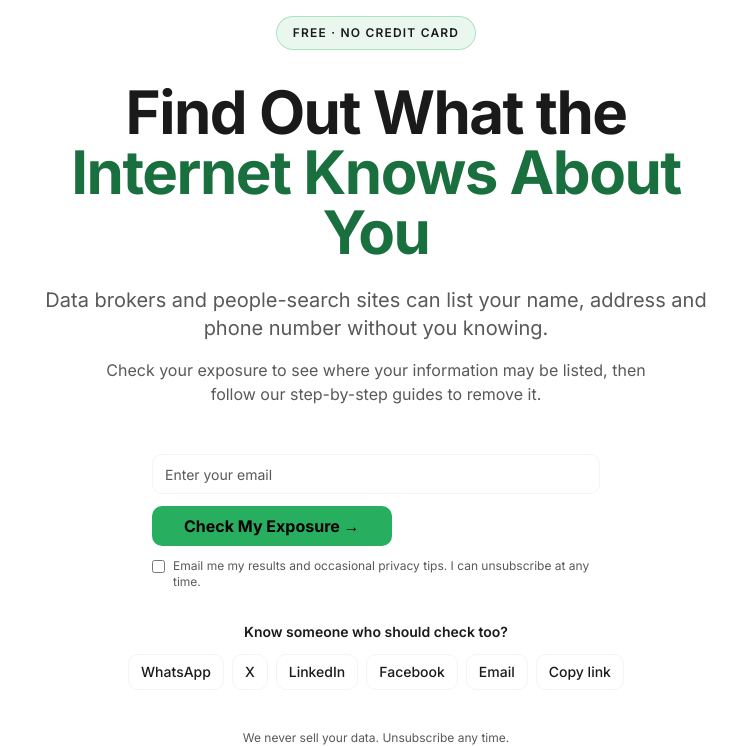
Scenario: Scan page: a failed report request is not hidden (MPC-7535) › a retry after a failure requests the report again, does not resend the lead, then thanks the visitor
The width and height of the screenshot is (753, 746).
In the field named "Email address": (376, 474) [152,454,600,494], type "mpc7535+unit@example.com"
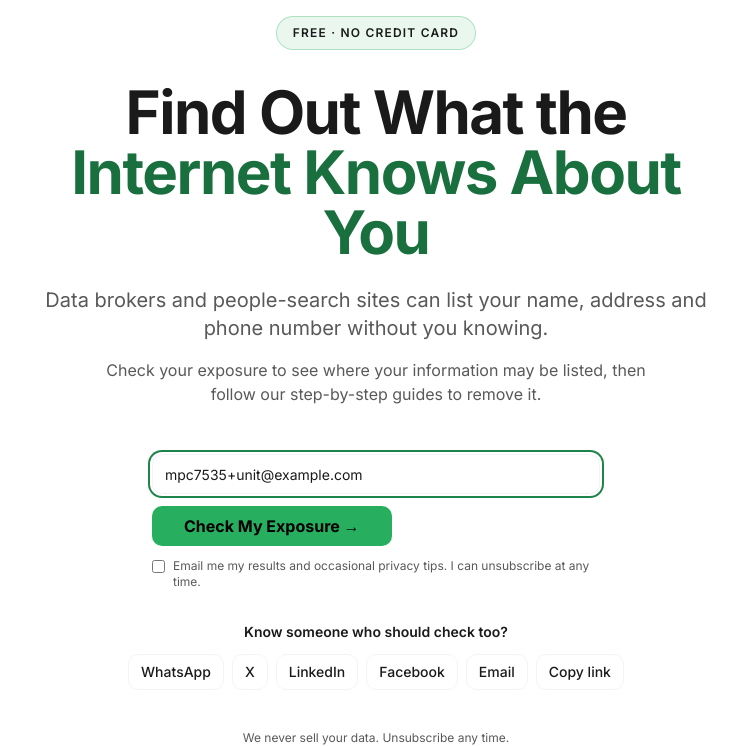
Click the checkbox labelled "Email me my results and occasional privacy tips": (158, 566) [152,560,165,573]
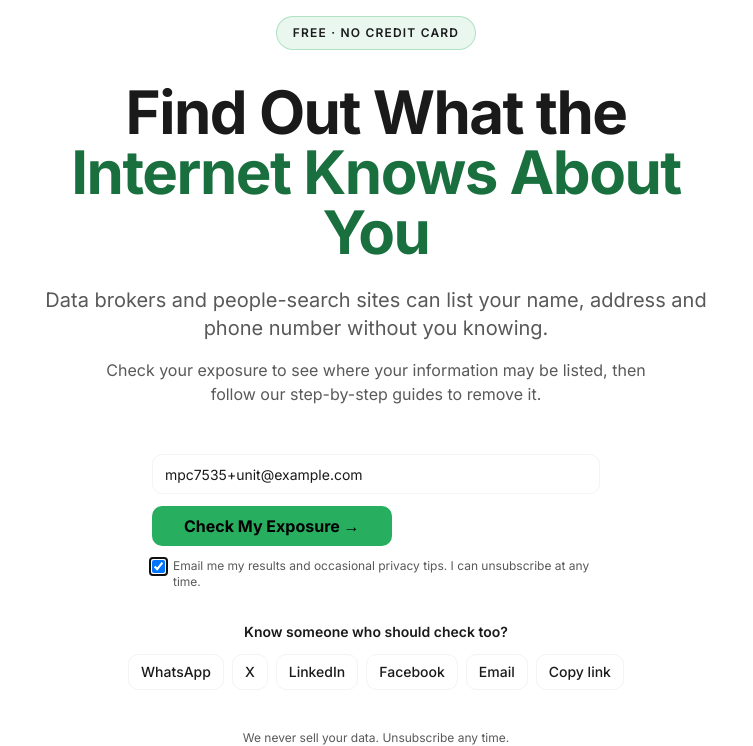
Click the button "Check My Exposure →": (272, 526) [152,506,392,546]
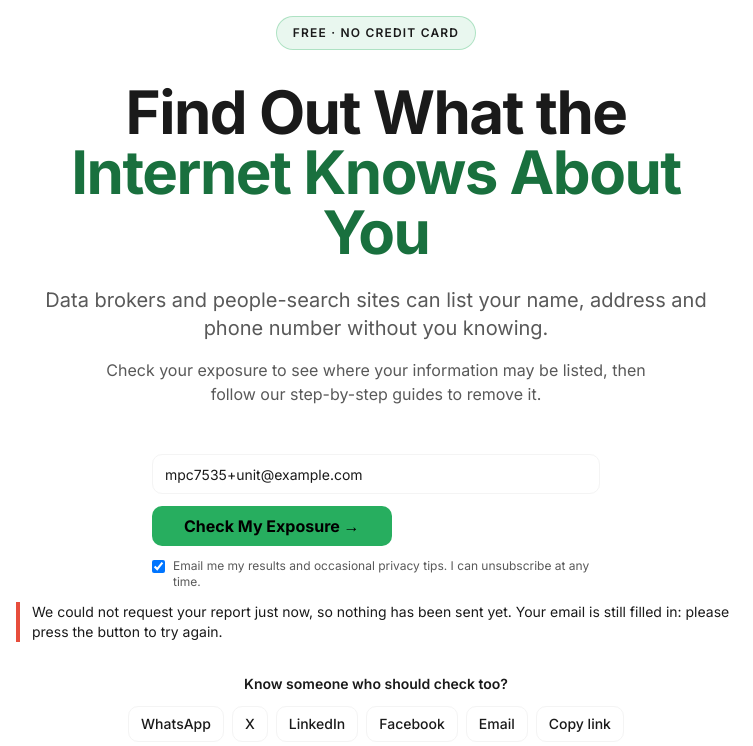
Expected: the message is shown, [16,602,736,642]
Click the button "Check My Exposure →": (272, 526) [152,506,392,546]
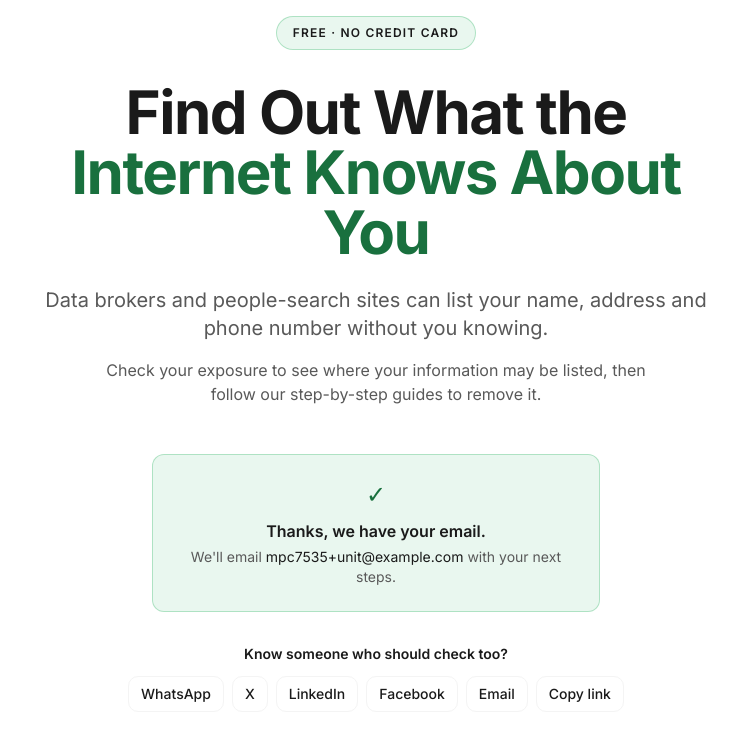
Expected: the message shows "we have your email", [266,521,486,541]
